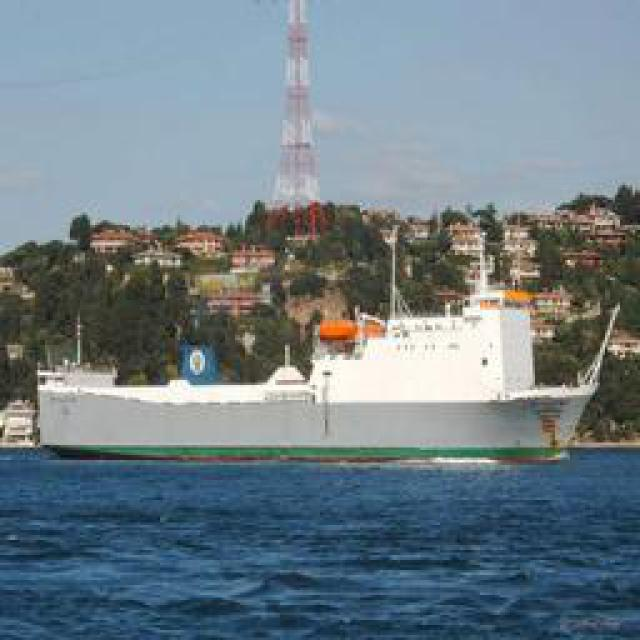Ship: (25, 301, 618, 474)
